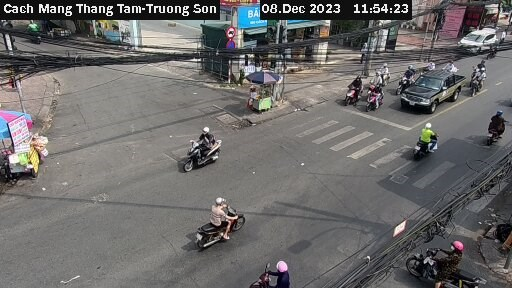car: (398, 71, 470, 110), (456, 28, 502, 51)
motorbike: (178, 199, 256, 261), (173, 128, 241, 185), (409, 237, 479, 286), (246, 257, 299, 288), (405, 115, 443, 158), (480, 103, 512, 143), (359, 85, 389, 114), (337, 74, 362, 104), (467, 67, 493, 95), (394, 68, 418, 90), (367, 58, 392, 79), (363, 72, 385, 95)
